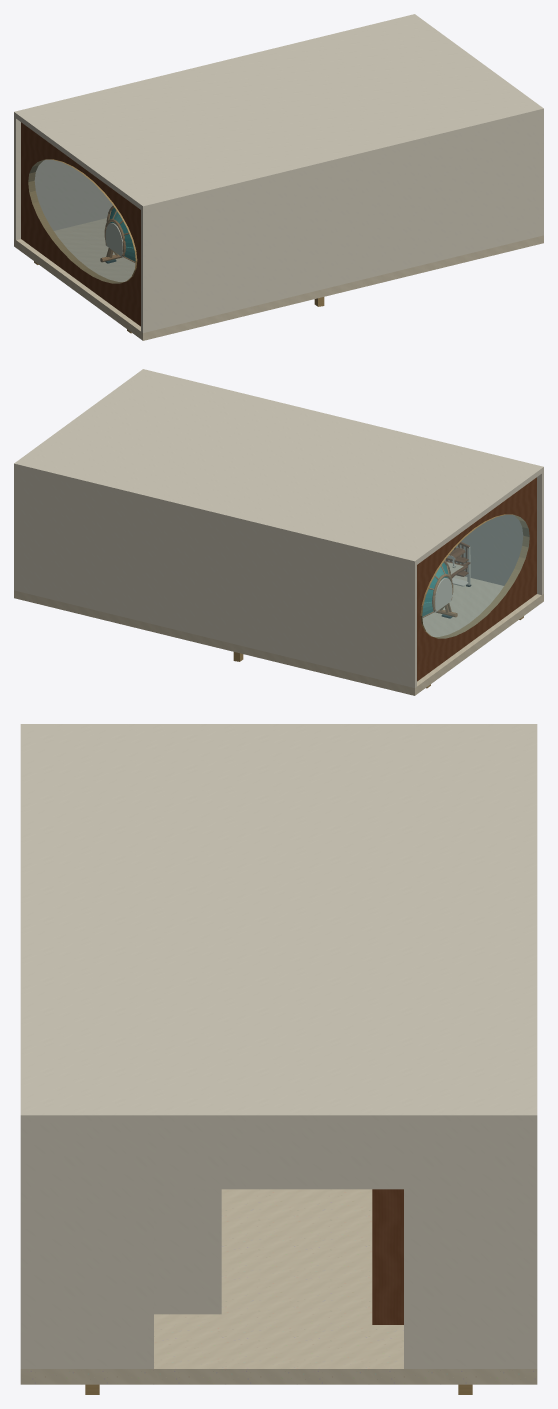
File: NightGardenD15Specialty_440_r001.glb
3 renders of one model, top to bottom at view 1: azimuth 30°, elevation 25°; view 2: azimuth 150°, elevation 25°; view 3: azimuth 270°, elevation 25°, orthographic. The views are drawn at different scales.
Parts seen in each view (by area): view 1: NG440_Ceiling, NG440_SouthSide, NG440_OvalAtriumGlass, NG440_RoomFloor, NG440_OvalWindowReveal, NG440_NorthSide, NG440_OvalDepthReturn, NG440_ReservedRestSupport__Rear ivory acoustic diffuser; view 2: NG440_Ceiling, NG440_NorthSide, NG440_OvalAtriumGlass, NG440_RoomFloor, NG440_OvalWindowReveal, NG440_SouthSide, NG440_OvalDepthReturn, NG440_ReservedRestSupport__Rear ivory acoustic diffuser; view 3: NG440_Ceiling, NG440_RoomFloor, NG440_EntryShoulderSouth, NG440_EntryShoulderNorth, NG440_EntryHeader, NG440_WashEntrySide, NG440_EntryPrivacyDogleg, NG440_NorthSide, NG440_SouthSide.
Boxes of the visible parts, bbox=[...] form: NG440_Ceiling: bbox=[14, 14, 543, 211]; NG440_SouthSide: bbox=[141, 114, 543, 332]; NG440_OvalAtriumGlass: bbox=[28, 160, 135, 283]; NG440_RoomFloor: bbox=[14, 218, 543, 340]; NG440_OvalWindowReveal: bbox=[21, 122, 140, 326]; NG440_NorthSide: bbox=[14, 117, 112, 239]; NG440_OvalDepthReturn: bbox=[28, 159, 137, 283]; NG440_ReservedRestSupport__Rear ivory acoustic diffuser: bbox=[105, 223, 123, 257]; NG440_Ceiling: bbox=[14, 369, 543, 566]; NG440_NorthSide: bbox=[14, 469, 416, 687]; NG440_OvalAtriumGlass: bbox=[422, 515, 529, 638]; NG440_RoomFloor: bbox=[14, 575, 543, 695]; NG440_OvalWindowReveal: bbox=[417, 477, 536, 681]; NG440_SouthSide: bbox=[445, 472, 543, 594]; NG440_OvalDepthReturn: bbox=[420, 514, 529, 638]; NG440_ReservedRestSupport__Rear ivory acoustic diffuser: bbox=[434, 578, 452, 612]; NG440_Ceiling: bbox=[20, 724, 537, 1125]; NG440_RoomFloor: bbox=[20, 1189, 537, 1384]; NG440_EntryShoulderSouth: bbox=[29, 1125, 153, 1368]; NG440_EntryShoulderNorth: bbox=[404, 1125, 528, 1368]; NG440_EntryHeader: bbox=[150, 1125, 407, 1189]; NG440_WashEntrySide: bbox=[154, 1189, 221, 1314]; NG440_EntryPrivacyDogleg: bbox=[372, 1189, 403, 1324]; NG440_NorthSide: bbox=[528, 1125, 537, 1368]; NG440_SouthSide: bbox=[20, 1125, 29, 1368].
Size of the model in its own units: 12.9 by 4.91 by 7.2.
Materials: 58 (43 with a texture image).
